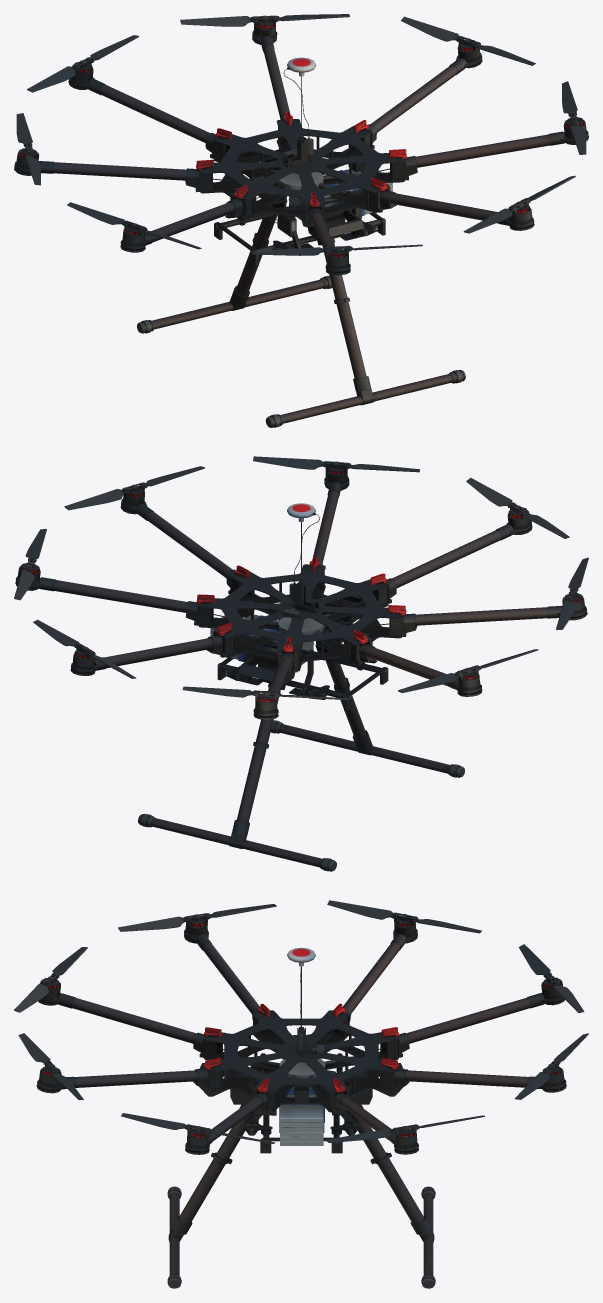
The model's file is D04_DXY.glb.
3 views of the same model, one above another, from view 1: azimuth 30°, elevation 25°; view 2: azimuth 150°, elevation 25°; view 3: azimuth 270°, elevation 25° (orthographic).
Parts seen in each view (by area): view 1: D04DXY01; view 2: D04DXY01; view 3: D04DXY01.
Part boxes in pixels (x1=…): D04DXY01: x1=14, y1=14, x2=588, y2=427; D04DXY01: x1=14, y1=456, x2=588, y2=871; D04DXY01: x1=14, y1=900, x2=588, y2=1288.
Size of the model in its own units: 1.77 by 0.9867 by 1.77.
Materials: 2 (2 with a texture image).
